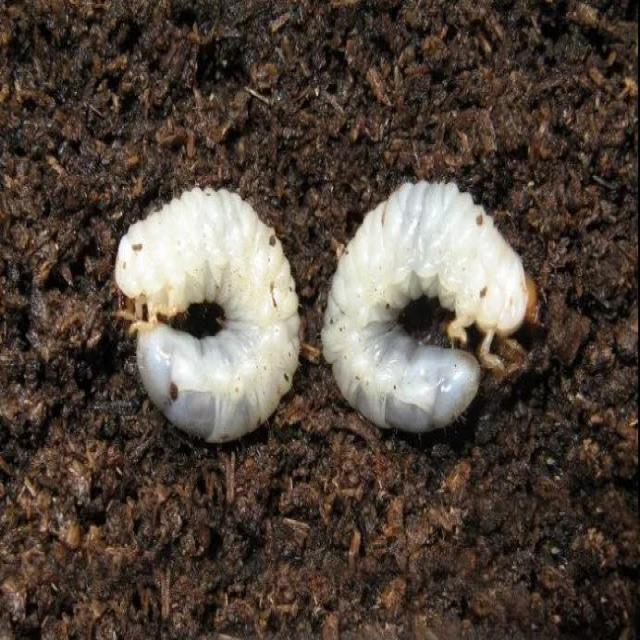Grub-Adult-: (322, 175, 550, 437), (110, 183, 308, 449)
